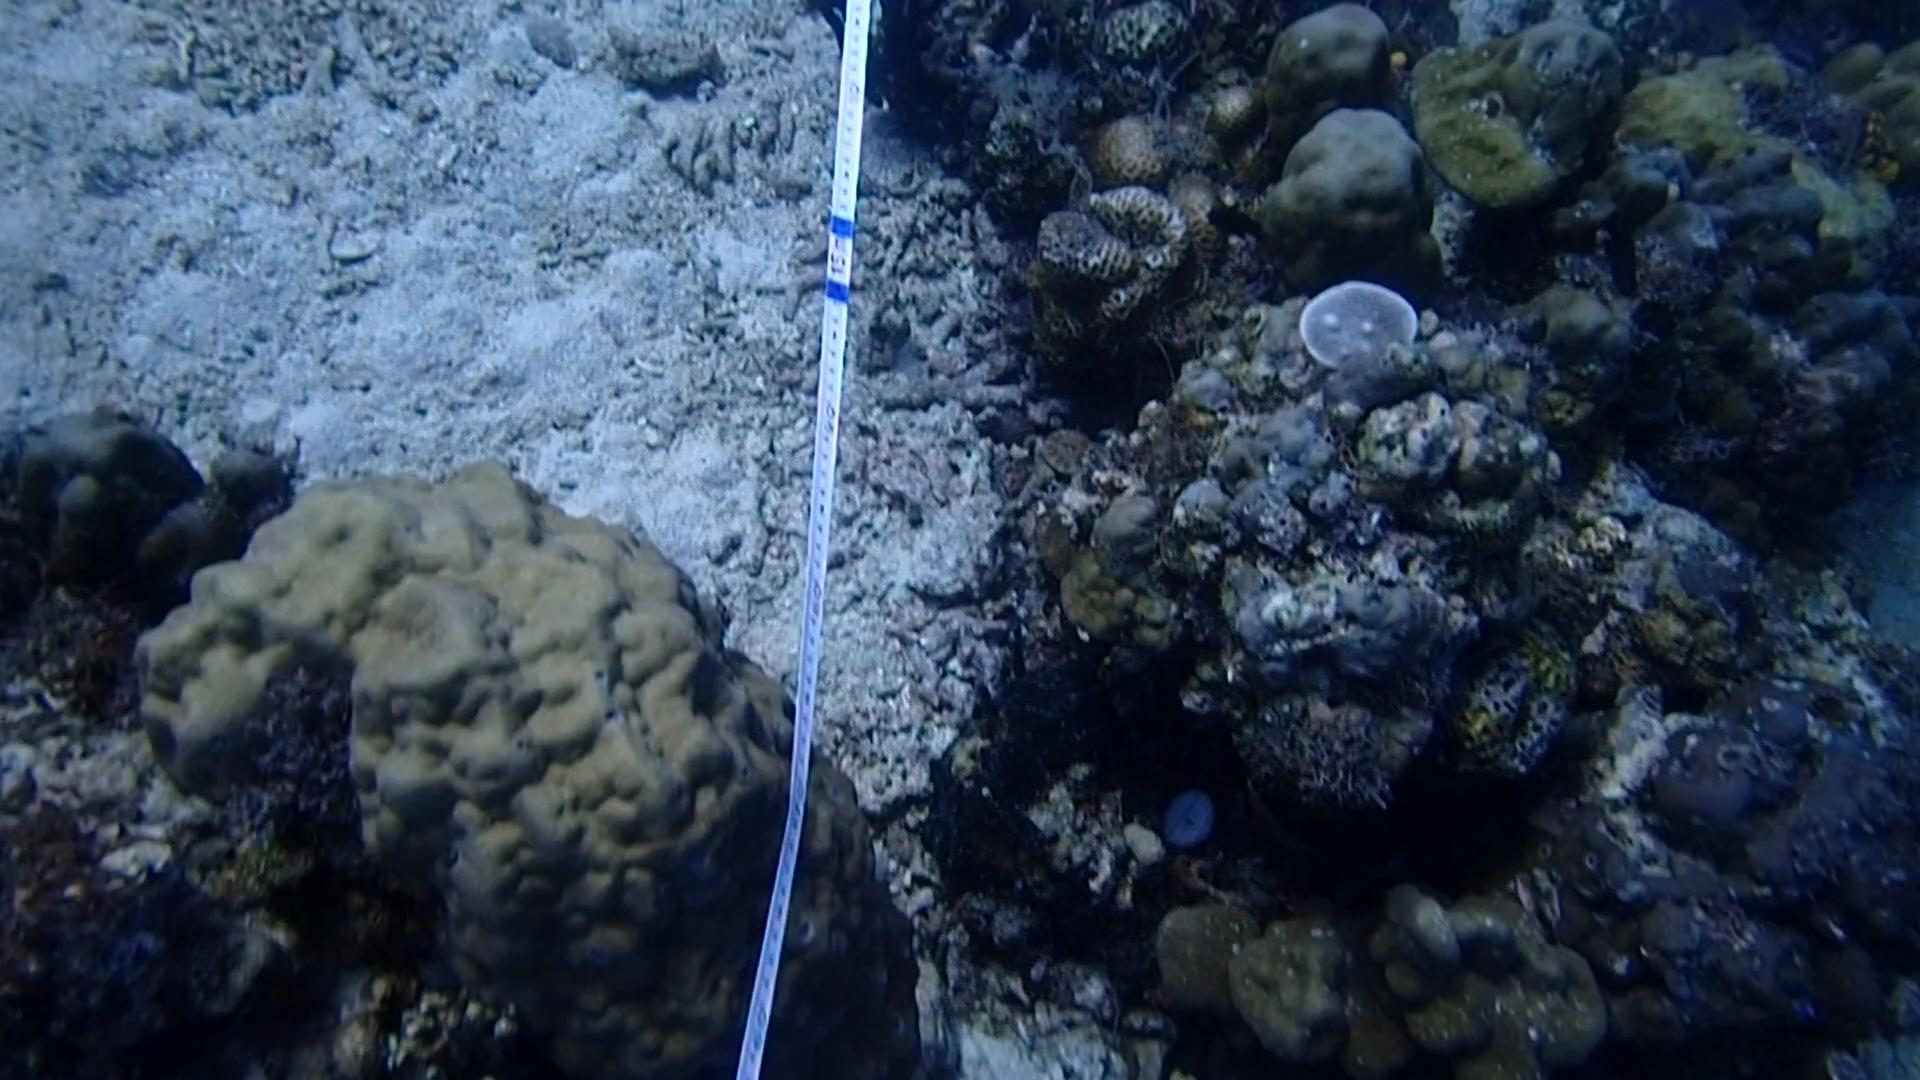Dark Fish: (1197, 191, 1266, 245)
